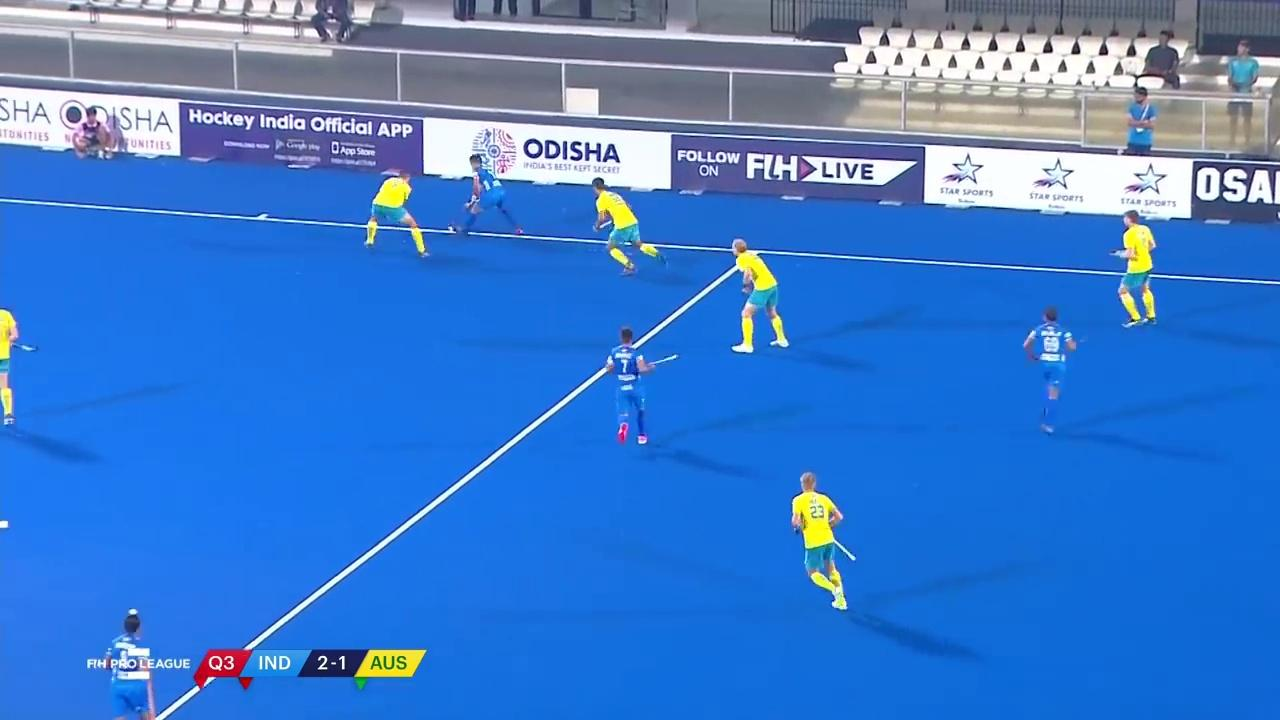ball: (446, 222, 455, 233)
